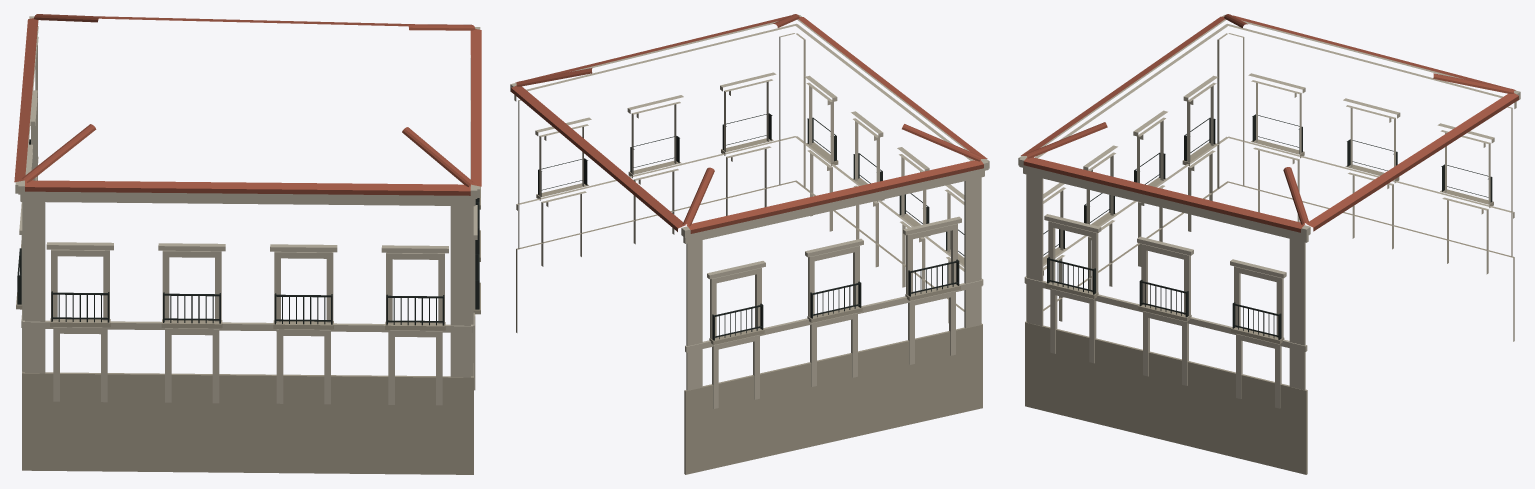
The picture shows the model from 3 angles, left to right: view 1: azimuth 30°, elevation 25°; view 2: azimuth 150°, elevation 25°; view 3: azimuth 270°, elevation 25°; orthographic projection. The views are drawn at different scales.
Visible parts, largest first — view 1: detail; view 2: detail; view 3: detail.
Boxes of the visible parts, x1=… form: detail: x1=14, y1=14, x2=481, y2=474; detail: x1=510, y1=14, x2=989, y2=474; detail: x1=1018, y1=14, x2=1520, y2=474.
Size of the model in its own units: 17.58 by 10.48 by 17.33.
